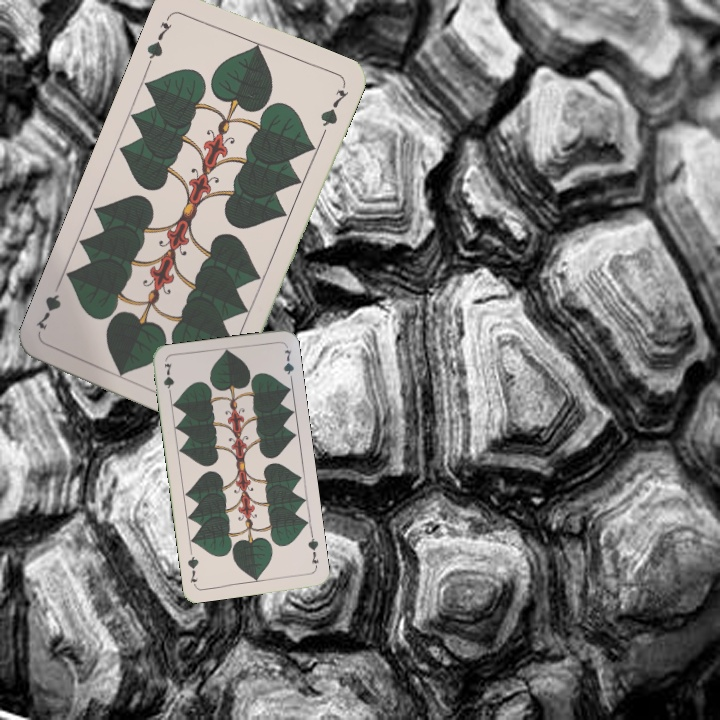G7: (142, 11, 175, 67), (159, 359, 177, 400), (304, 530, 321, 571)
